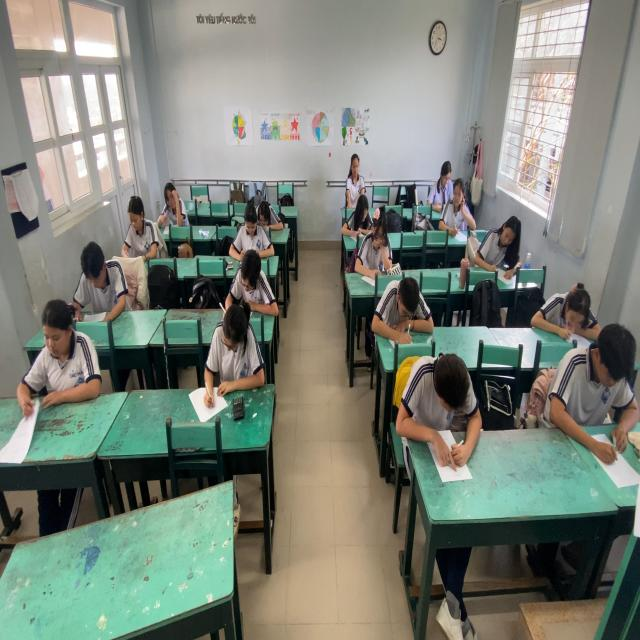not_cheating: (21, 298, 101, 409), (555, 323, 640, 418), (404, 354, 478, 446), (207, 301, 264, 384), (379, 270, 435, 346), (71, 243, 124, 319), (227, 243, 280, 312), (535, 281, 596, 340), (474, 212, 526, 274), (120, 194, 157, 264), (361, 208, 392, 278), (233, 198, 269, 253), (159, 181, 188, 236), (254, 191, 285, 240), (440, 184, 474, 225), (427, 156, 452, 202), (343, 153, 365, 202), (345, 195, 369, 229)
